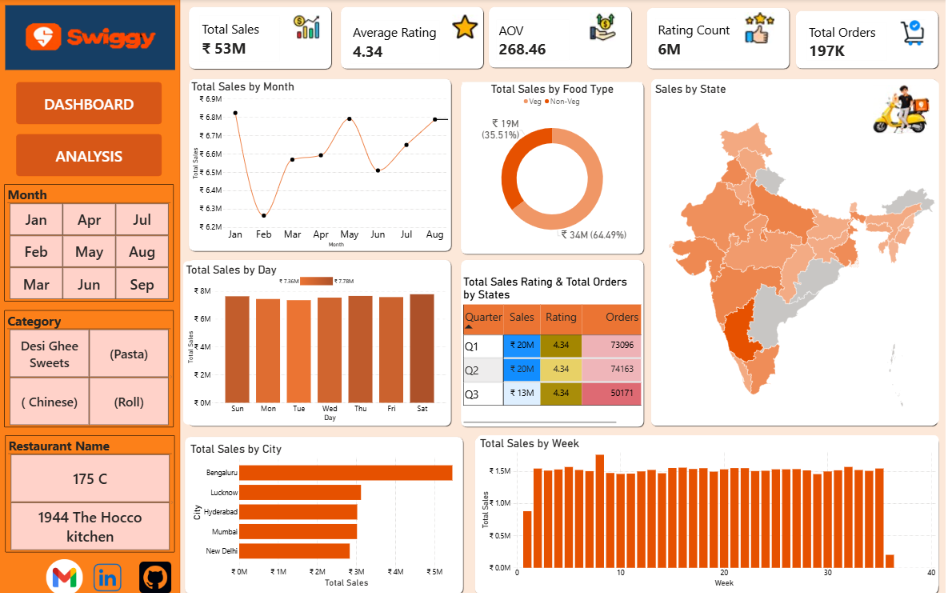

The page's visual inventory and layout, read from the dashboard file:
{"tool":"powerbi","page":{"name":"DASHBOARD","canvas":[5080,3200],"ordinal":0},"visuals":[{"type":"shape","box":[1823.3,33.3,781.4,349.1],"z":0},{"type":"shape","box":[0,0,970.3,3199.2],"z":1000},{"type":"image","box":[29.7,33.9,911,347.5],"z":2000},{"type":"actionButton","box":[93.2,444.9,779.7,224.6],"z":3000},{"type":"actionButton","box":[93.2,724.6,779.7,224.6],"z":4000},{"type":"slicer","fields":{"Values":["Swiggy Raw Data Excel.Month"]},"box":[25.1,989.6,909.2,627.9],"z":5000},{"type":"image","box":[251.2,3003.9,195.9,195.9],"z":6000},{"type":"image","box":[733.4,3003.9,206,195.9],"z":7000},{"type":"image","box":[482.2,3003.9,195.9,195.9],"z":8000},{"type":"shape","box":[4262.5,52,780.6,326.4],"z":9000},{"type":"shape","box":[1005.5,32.8,781.5,349.7],"z":10000},{"type":"shape","box":[3463.8,38.8,781.4,343.6],"z":11000},{"type":"shape","box":[2615.9,33.3,781.4,343.6],"z":12000},{"type":"cardVisual","fields":{"Data":["Swiggy Raw Data Excel.Total Sales"]},"box":[1058.5,72,465.5,282.6],"z":13000},{"type":"cardVisual","fields":{"Data":["Swiggy Raw Data Excel.Total Orders"]},"box":[4313.1,105.7,467.5,239.3],"z":14000},{"type":"cardVisual","fields":{"Data":["Swiggy Raw Data Excel.Total Rating Count"]},"box":[3500.6,83.5,467.5,261.6],"z":15000},{"type":"cardVisual","fields":{"Data":["Swiggy Raw Data Excel.Avg Order Value"]},"box":[2649.1,88.7,426.7,254.9],"z":16000},{"type":"cardVisual","fields":{"Data":["Swiggy Raw Data Excel.Average Rating"]},"box":[1867.7,94.2,515.4,266],"z":17000},{"type":"image","box":[4819.5,105.7,155.8,144.7],"z":18000},{"type":"image","box":[2427.4,72,138.6,155.2],"z":19000},{"type":"image","box":[1573.9,72,144.1,155.2],"z":20000},{"type":"image","box":[3142.3,72,188.4,155.2],"z":21000},{"type":"image","box":[3968.1,72.3,217,167],"z":22000},{"type":"slicer","fields":{"Values":["Swiggy Raw Data Excel.Category"]},"box":[25.1,1667.7,909.2,627.9],"z":23000},{"type":"slicer","fields":{"Values":["Swiggy Raw Data Excel.Restaurant Name"]},"box":[30.1,2335.8,909.2,627.9],"z":24000},{"type":"shape","box":[1007.7,416.3,1424,941.4],"z":25000},{"type":"shape","box":[1002.9,1386.1,1428.7,908.3],"z":26000},{"type":"lineChart","fields":{"Category":["Swiggy Raw Data Excel.Month"],"Y":["Swiggy Raw Data Excel.Total Sales"]},"box":[1026.6,435.2,1390.9,903.6],"z":27000},{"type":"shape","box":[2464.8,435.2,998.2,941.4],"z":28000},{"type":"shape","box":[3485.8,416.5,1553.4,1878.2],"z":29000},{"type":"donutChart","fields":{"Category":["Swiggy Raw Data Excel.Food Type"],"Y":["Swiggy Raw Data Excel.Total Sales"]},"box":[2483.7,444.7,965.1,913.1],"z":30000},{"type":"shapeMap","title":"Sales by State","fields":{"Category":["Swiggy Raw Data Excel.State"],"Value":["Swiggy Raw Data Excel.Total Sales"]},"box":[3500.8,435.2,1537.5,1845],"z":31000},{"type":"image","box":[4683.6,463.6,312.2,260.2],"z":32000},{"type":"clusteredColumnChart","fields":{"Category":["Swiggy Raw Data Excel.Day"],"Y":["Swiggy Raw Data Excel.Total Sales"]},"box":[988.8,1405.1,1428.7,875.2],"z":33000},{"type":"shape","box":[2464.8,1386.1,998.2,913.1],"z":34000},{"type":"pivotTable","title":"Total Sales Rating & Total Orders by States","fields":{"Rows":["Swiggy Raw Data Excel.Quarter"],"Values":["Swiggy Raw Data Excel.Total Sales","Swiggy Raw Data Excel.Average Rating","Swiggy Raw Data Excel.Total Orders"]},"box":[2483.7,1480.8,965.1,799.5],"z":35000},{"type":"shape","box":[988.8,2337,1509.1,861],"z":36000},{"type":"clusteredBarChart","fields":{"Category":["Swiggy Raw Data Excel.City"],"Y":["Swiggy Raw Data Excel.Total Sales"]},"box":[1012.4,2370.2,1471.3,794.8],"z":37000},{"type":"shape","box":[2540.5,2337,2502.6,861],"z":38000},{"type":"clusteredColumnChart","fields":{"Category":["Swiggy Raw Data Excel.Week"],"Y":["Swiggy Raw Data Excel.Total Sales"]},"box":[2564.1,2337,2474.2,827.9],"z":39000}]}

Visuals, with their boxes in screenshot pixels (x1, y1, x2, y2), scaled from the page's 5080x3200 canvas onto the 946x593 screenshot:
shape: Rect(340, 6, 485, 71)
shape: Rect(0, 0, 181, 592)
image: Rect(6, 6, 175, 71)
actionButton: Rect(17, 82, 163, 124)
actionButton: Rect(17, 134, 163, 176)
slicer - Swiggy Raw Data Excel.Month: Rect(5, 183, 174, 300)
image: Rect(47, 557, 83, 592)
image: Rect(137, 557, 175, 592)
image: Rect(90, 557, 126, 592)
shape: Rect(794, 10, 939, 70)
shape: Rect(187, 6, 333, 71)
shape: Rect(645, 7, 791, 71)
shape: Rect(487, 6, 633, 70)
cardVisual - Swiggy Raw Data Excel.Total Sales: Rect(197, 13, 284, 66)
cardVisual - Swiggy Raw Data Excel.Total Orders: Rect(803, 20, 890, 64)
cardVisual - Swiggy Raw Data Excel.Total Rating Count: Rect(652, 15, 739, 64)
cardVisual - Swiggy Raw Data Excel.Avg Order Value: Rect(493, 16, 573, 64)
cardVisual - Swiggy Raw Data Excel.Average Rating: Rect(348, 17, 444, 67)
image: Rect(897, 20, 927, 46)
image: Rect(452, 13, 478, 42)
image: Rect(293, 13, 320, 42)
image: Rect(585, 13, 620, 42)
image: Rect(739, 13, 779, 44)
slicer - Swiggy Raw Data Excel.Category: Rect(5, 309, 174, 425)
slicer - Swiggy Raw Data Excel.Restaurant Name: Rect(6, 433, 175, 549)
shape: Rect(188, 77, 453, 252)
shape: Rect(187, 257, 453, 425)
lineChart - Swiggy Raw Data Excel.Month x Swiggy Raw Data Excel.Total Sales: Rect(191, 81, 450, 248)
shape: Rect(459, 81, 645, 255)
shape: Rect(649, 77, 938, 425)
donutChart - Swiggy Raw Data Excel.Food Type x Swiggy Raw Data Excel.Total Sales: Rect(463, 82, 642, 252)
"Sales by State" shapeMap: Rect(652, 81, 938, 423)
image: Rect(872, 86, 930, 134)
clusteredColumnChart - Swiggy Raw Data Excel.Day x Swiggy Raw Data Excel.Total Sales: Rect(184, 260, 450, 423)
shape: Rect(459, 257, 645, 426)
"Total Sales Rating & Total Orders by States" pivotTable: Rect(463, 274, 642, 423)
shape: Rect(184, 433, 465, 592)
clusteredBarChart - Swiggy Raw Data Excel.City x Swiggy Raw Data Excel.Total Sales: Rect(189, 439, 463, 587)
shape: Rect(473, 433, 939, 592)
clusteredColumnChart - Swiggy Raw Data Excel.Week x Swiggy Raw Data Excel.Total Sales: Rect(477, 433, 938, 586)
